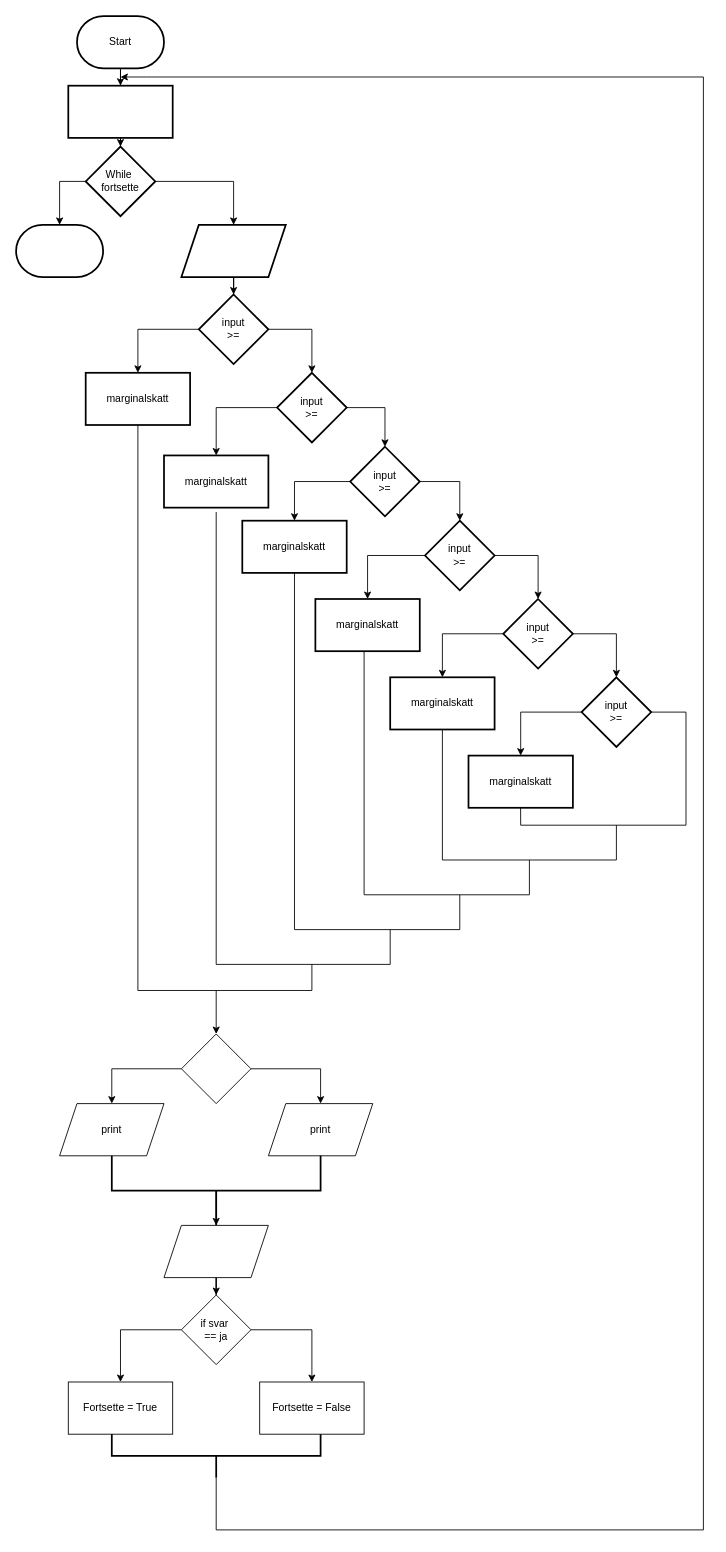
Image size: 726x1552. Some labels were removed from this diagram. The centre of each missing label's shape, as x and y in pixels:
"Fortsette=True" goes at pixel 120 111.
"if" goes at pixel 216 1068.
"input" goes at pixel 233 251.
"slutt" goes at pixel 59 251.
"svar input" goes at pixel 215 1251.
